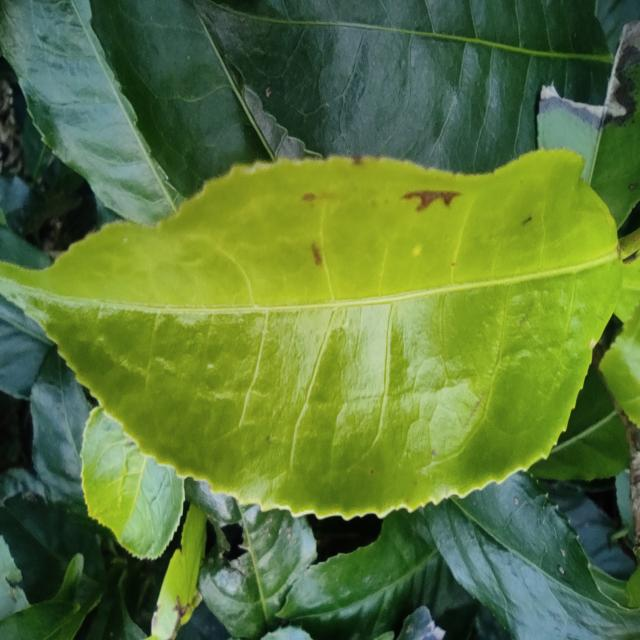Category C(4-7 days): (4, 125, 629, 528)
